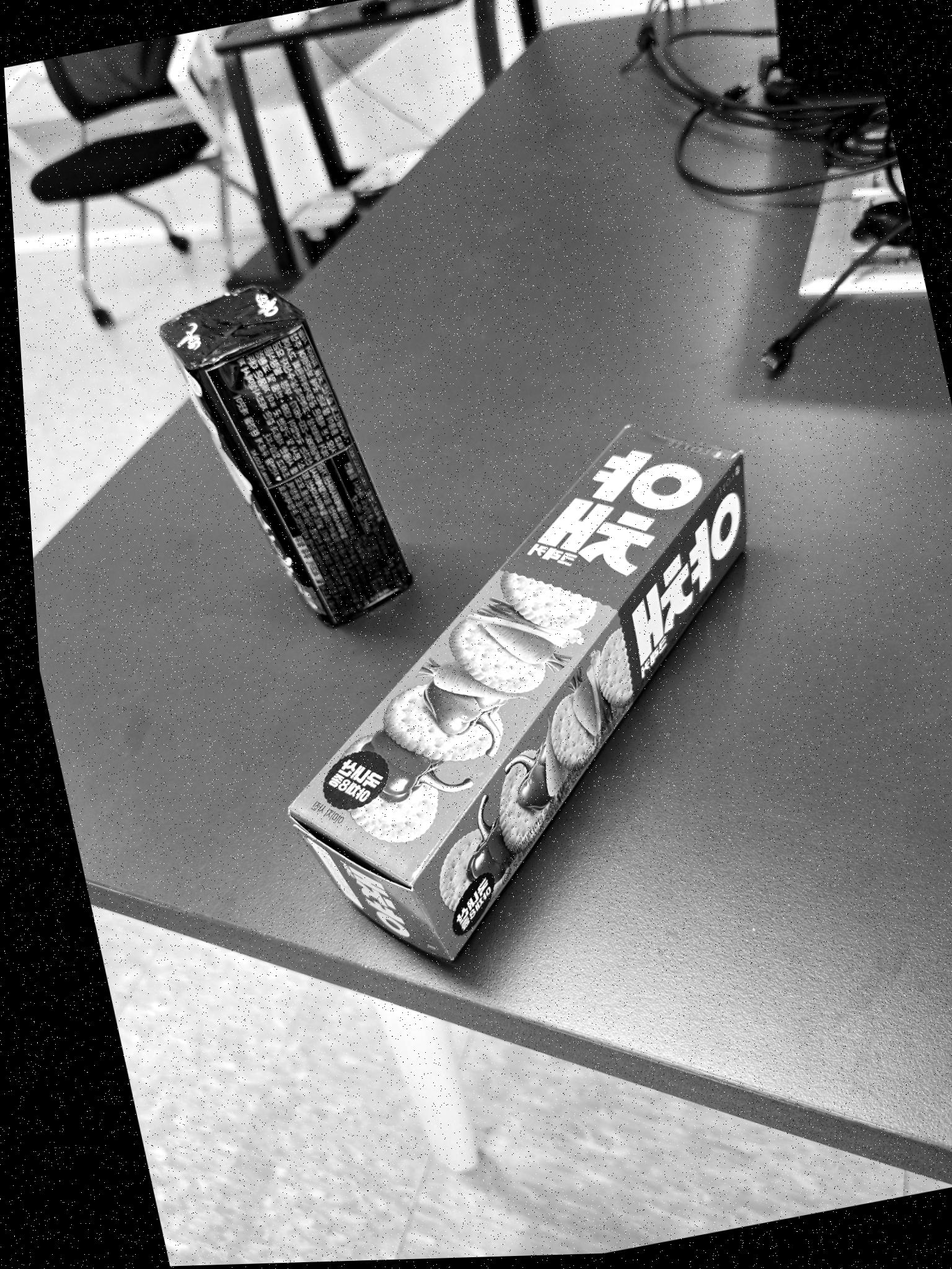cracker_ace: (160, 286, 412, 626)
cracker_vege: (290, 426, 747, 958)
